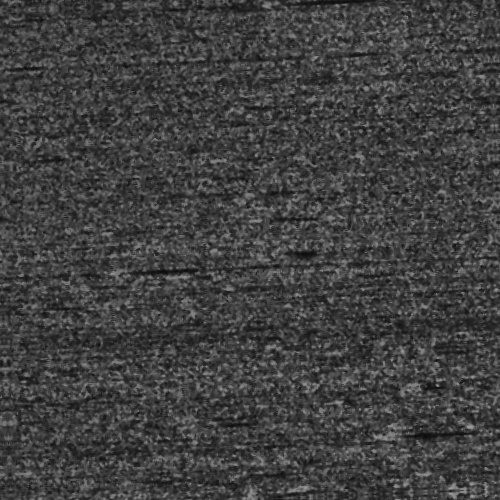object: (279, 0, 332, 6), (355, 435, 396, 442)
shadow: (376, 435, 451, 442), (306, 0, 371, 6)
